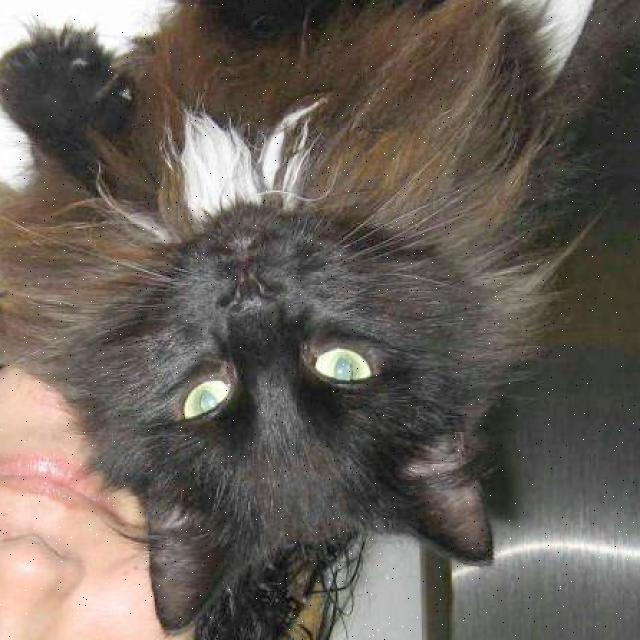Cat: (128, 200, 460, 594)
